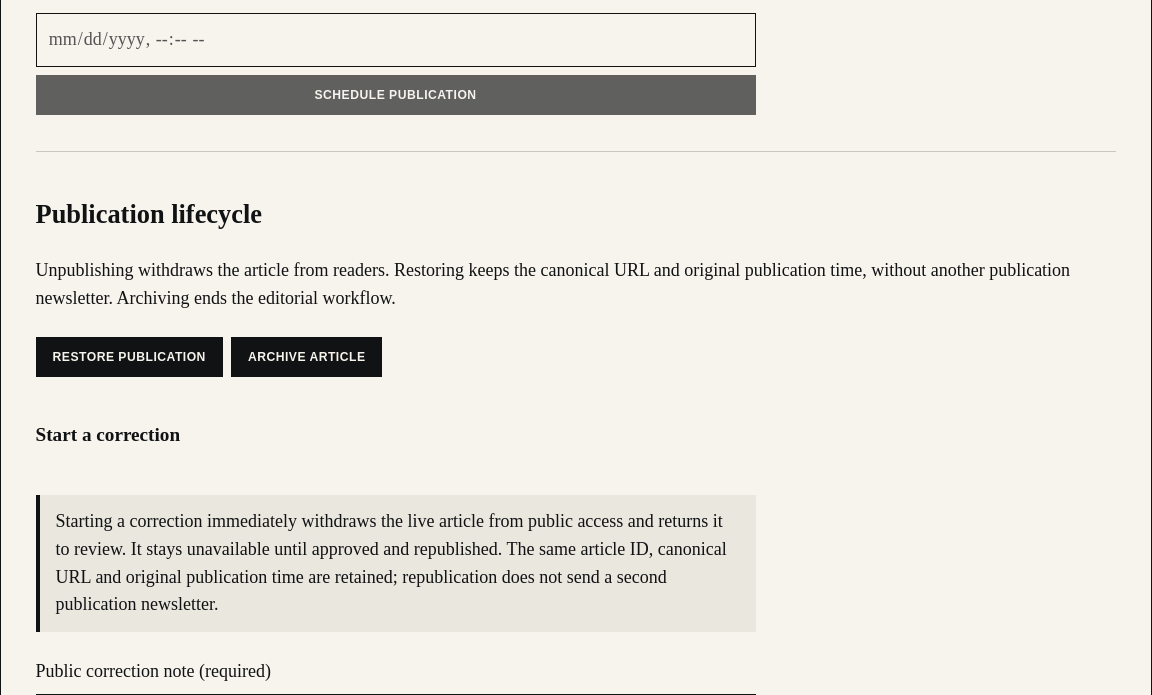
it: Article workspace › offers the correct UNPUBLISHED lifecycle action: Archive article
(page scrolled)
What coordinates should you click on to do the following:
click the button "Archive article"
I would click on:
 (307, 357)
Its box is [231,337,382,377].
(page scrolled)
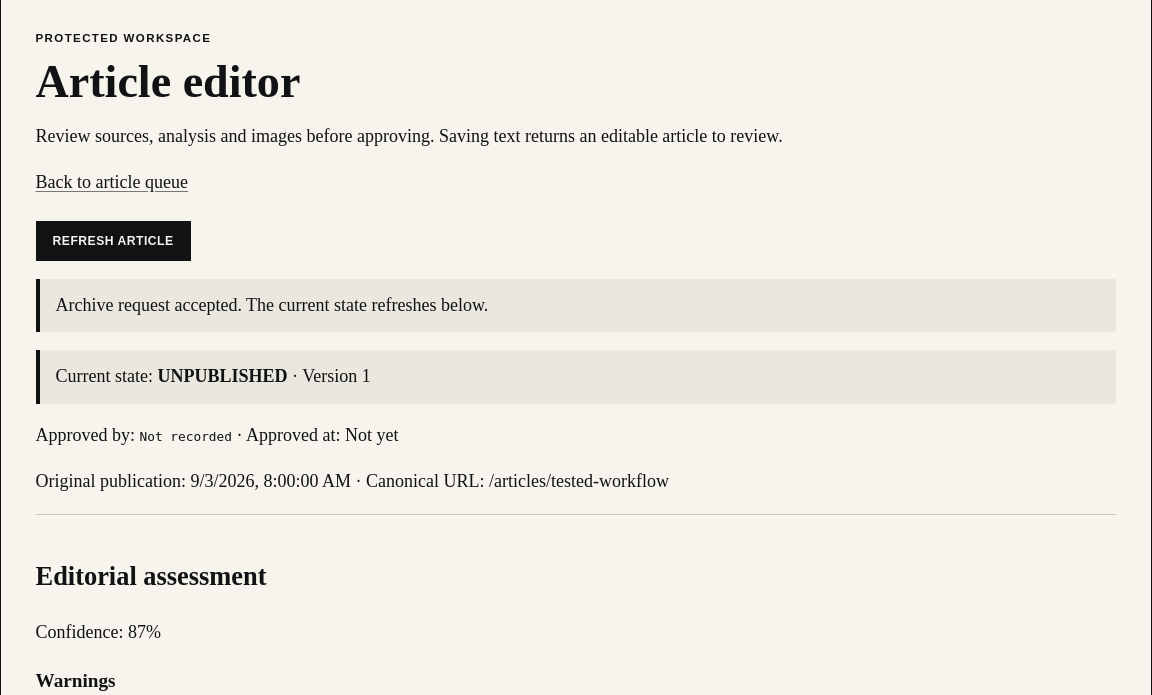
Now the text "Archive request accepted. The current state refreshes below." is shown, box [36,279,1116,332]
